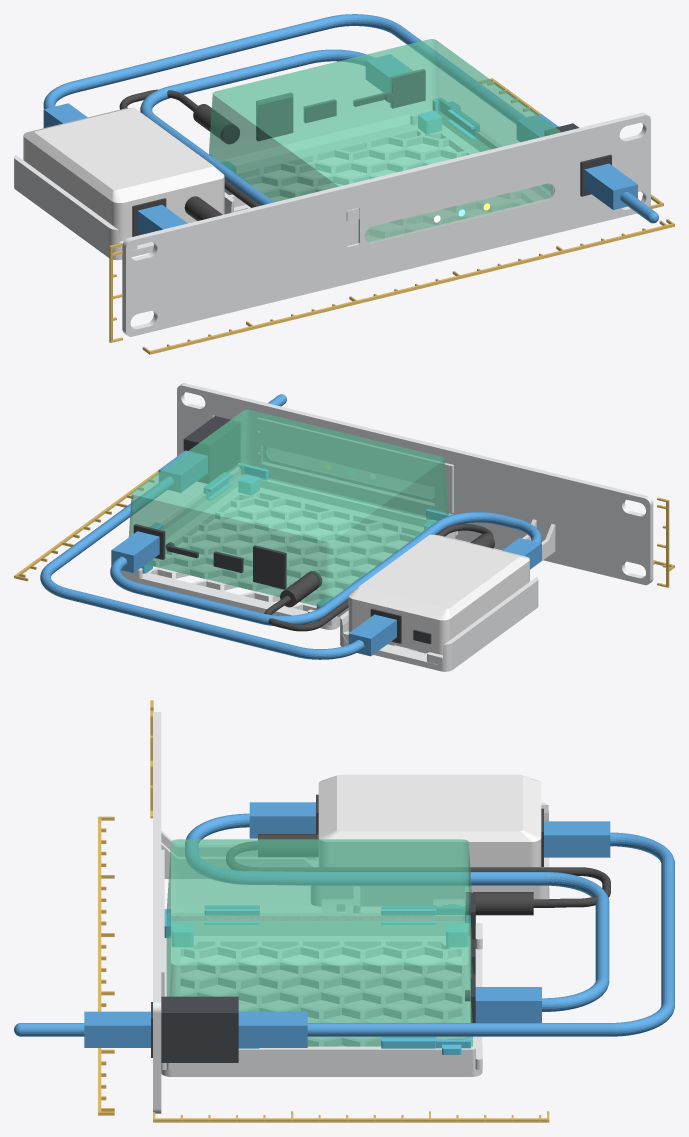
File: home-assistant-green-rack-front_ethernet_far_right.glb
The picture shows the model from 3 angles, top to bottom: view 1: azimuth 30°, elevation 25°; view 2: azimuth 150°, elevation 25°; view 3: azimuth 270°, elevation 25°; orthographic projection. The views are drawn at different scales.
Visible parts, largest first — view 1: White rack mount, Home Assistant Green, TP-Link TL-PD30G-M2, Front keystone → TP-Link PoE jumper, Green tray — standard, Internal Ethernet cable, Home Assistant Green connector faces, 10 mm dimension rulers, LED window insert, TP-Link cradle side walls, DC cable, Green retention — segmented rails + rear latch (+4 smaller); view 2: Home Assistant Green, White rack mount, Green tray — standard, TP-Link TL-PD30G-M2, Front keystone → TP-Link PoE jumper, LED shutter retainer, Internal Ethernet cable, TP-Link cradle side walls, Home Assistant Green connector faces, Front keystone coupler, LED window insert, DC cable (+4 smaller); view 3: Home Assistant Green, Green tray — standard, TP-Link TL-PD30G-M2, Front keystone → TP-Link PoE jumper, Internal Ethernet cable, White rack mount, DC cable, Front keystone coupler, Green retention — segmented rails + rear latch, 10 mm dimension rulers, TP-Link cradle side walls, Home Assistant Green connector faces (+1 smaller).
Part boxes in pixels (box(x1,y1,x2,y2)): White rack mount: box(122, 112, 650, 336); Home Assistant Green: box(209, 39, 560, 241); TP-Link TL-PD30G-M2: box(23, 107, 224, 241); Front keystone → TP-Link PoE jumper: box(43, 14, 658, 223); Green tray — standard: box(219, 109, 502, 197); Internal Ethernet cable: box(137, 49, 412, 234); Home Assistant Green connector faces: box(220, 69, 425, 144); 10 mm dimension rulers: box(109, 78, 674, 354); LED window insert: box(364, 183, 554, 243); TP-Link cradle side walls: box(14, 155, 233, 252); DC cable: box(119, 89, 260, 220); Green retention — segmented rails + rear latch: box(209, 98, 550, 193); Home Assistant Green: box(128, 409, 448, 606); White rack mount: box(177, 383, 653, 616); Green tray — standard: box(121, 467, 457, 629); TP-Link TL-PD30G-M2: box(348, 534, 529, 655); Front keystone → TP-Link PoE jumper: box(40, 394, 396, 659); LED shutter retainer: box(257, 417, 453, 512); Internal Ethernet cable: box(110, 512, 541, 625); TP-Link cradle side walls: box(340, 577, 538, 665); Home Assistant Green connector faces: box(133, 524, 322, 589); Front keystone coupler: box(183, 416, 240, 483); LED window insert: box(263, 446, 433, 502); DC cable: box(264, 523, 494, 631); Home Assistant Green: box(166, 839, 472, 1046); Green tray — standard: box(161, 913, 482, 1076); TP-Link TL-PD30G-M2: box(318, 774, 541, 867); Front keystone → TP-Link PoE jumper: box(14, 821, 674, 1047); Internal Ethernet cable: box(185, 802, 609, 1022); White rack mount: box(153, 712, 471, 1113); DC cable: box(226, 834, 610, 915); Front keystone coupler: box(151, 996, 238, 1062); Green retention — segmented rails + rear latch: box(164, 905, 470, 1054); 10 mm dimension rulers: box(98, 700, 549, 1122); TP-Link cradle side walls: box(311, 802, 549, 899); Home Assistant Green connector faces: box(465, 892, 475, 1022).
Size of what is drawn, in the model's own units: 268 by 44.45 by 240.
